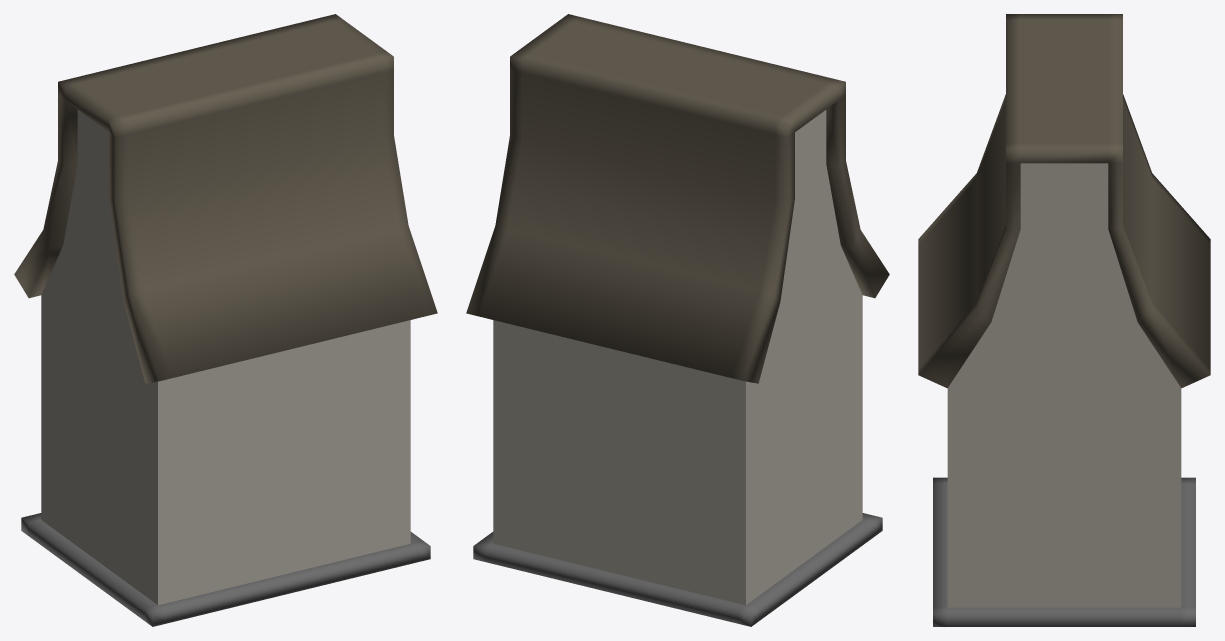
Rendered from p-modular-aframe.glb.
3 views of the same model, side by side, from view 1: azimuth 30°, elevation 25°; view 2: azimuth 150°, elevation 25°; view 3: azimuth 270°, elevation 25° (orthographic).
Parts seen in each view (by area): view 1: Cube-col; view 2: Cube-col; view 3: Cube-col.
Boxes of the visible parts, left/top/right/bottom form: Cube-col: left=14, top=14, right=437, bottom=626; Cube-col: left=466, top=14, right=889, bottom=626; Cube-col: left=918, top=14, right=1210, bottom=626.
Bounding box in the file's own units: 11 × 18 × 10.
